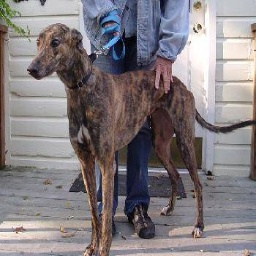dog: (26, 24, 218, 249)
